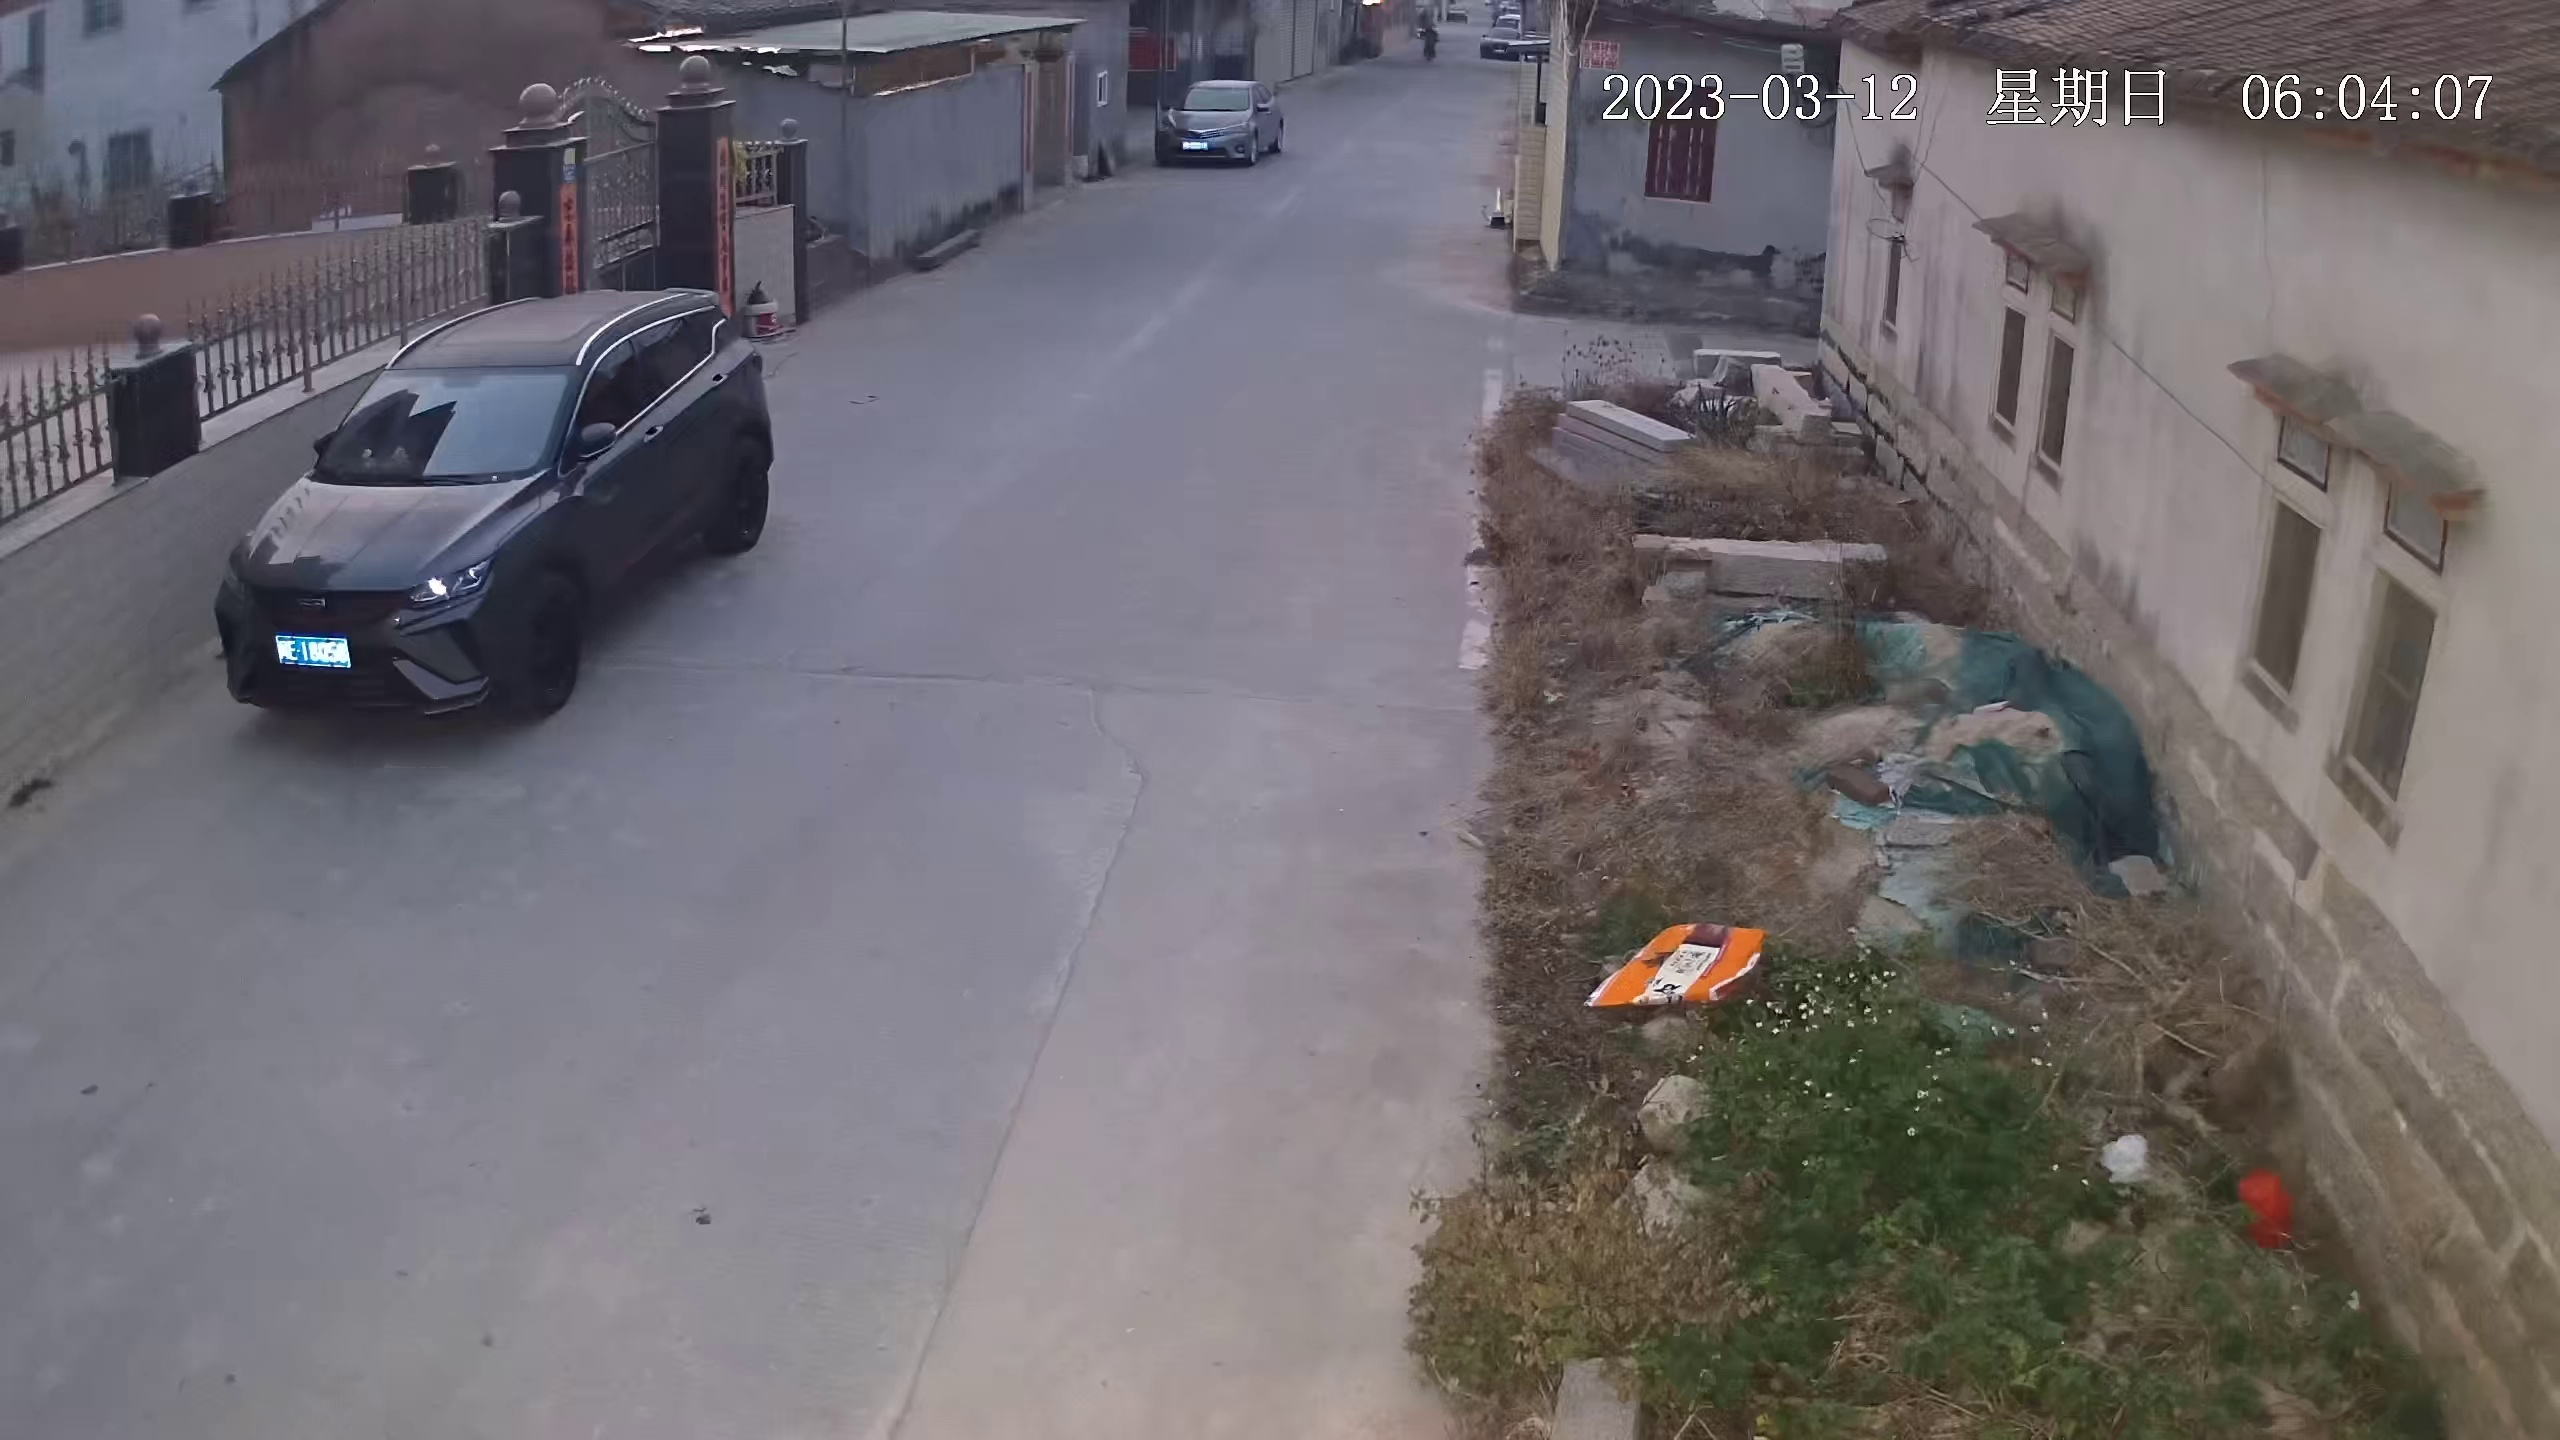motorcycle: (1417, 16, 1445, 67)
sedan: (1155, 72, 1287, 171), (1479, 25, 1523, 60)
suv: (218, 288, 777, 730)
